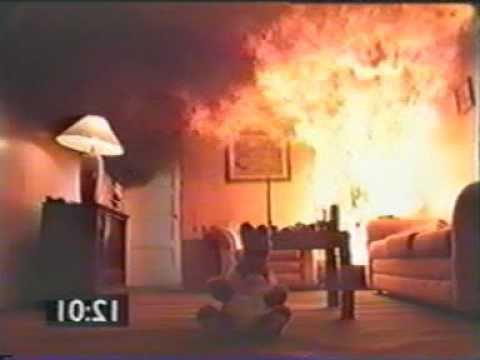fire: (249, 6, 468, 244)
